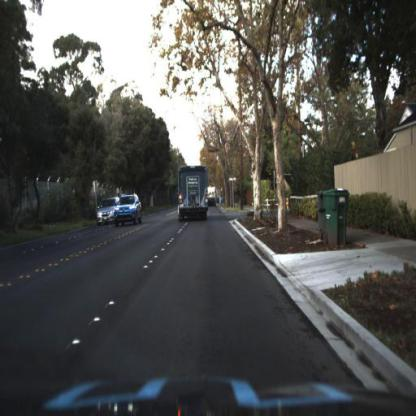car: (114, 188, 147, 228), (113, 193, 143, 227), (95, 196, 122, 227)
truck: (177, 159, 213, 227), (207, 185, 217, 210)
